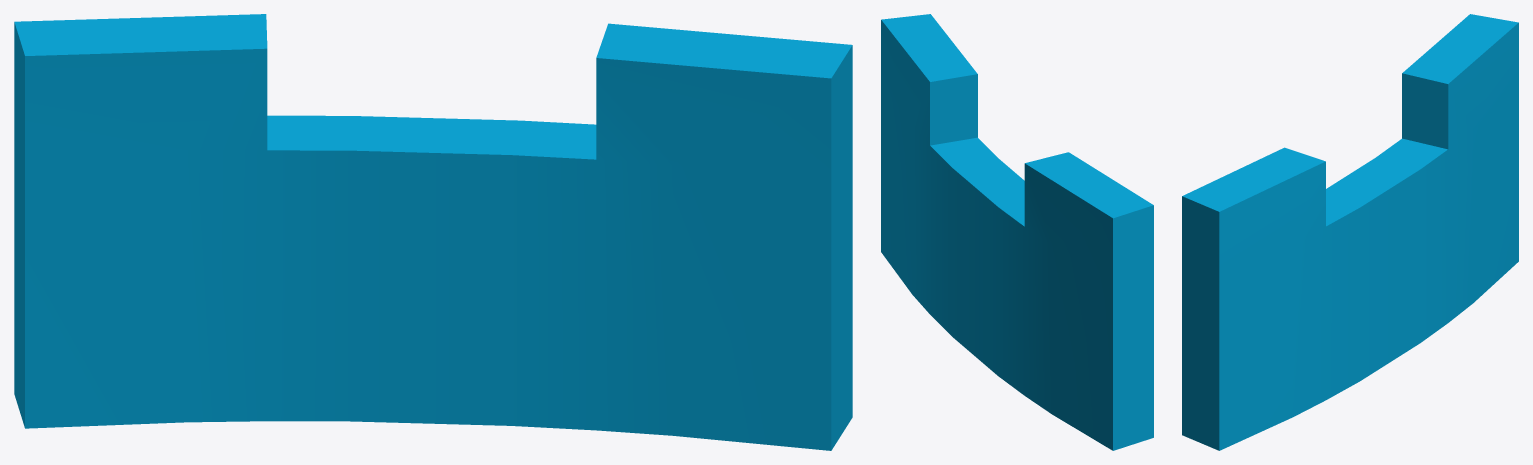
Rendered from Tower_Battlements_Module_01A.fbx.
The picture shows the model from 3 angles, left to right: view 1: azimuth 30°, elevation 25°; view 2: azimuth 150°, elevation 25°; view 3: azimuth 270°, elevation 25°; orthographic projection. The views are drawn at different scales.
Parts seen in each view (by area): view 1: Tower_Battlements_Module_01A; view 2: Tower_Battlements_Module_01A; view 3: Tower_Battlements_Module_01A.
Part boxes in pixels (box(x1,y1,x2,y2)): Tower_Battlements_Module_01A: box(14, 14, 852, 450); Tower_Battlements_Module_01A: box(881, 14, 1153, 450); Tower_Battlements_Module_01A: box(1182, 14, 1518, 450).
Size of the model in its own units: 266 by 150 by 192.
